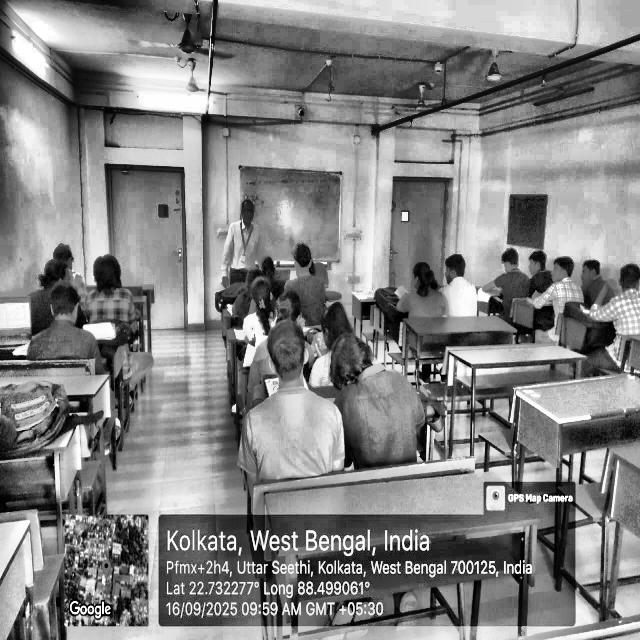Focus: (256, 318, 442, 432), (508, 254, 640, 348), (396, 236, 518, 318), (288, 222, 343, 342), (227, 184, 269, 258)
Not Focus: (51, 269, 129, 416), (50, 223, 147, 337)
